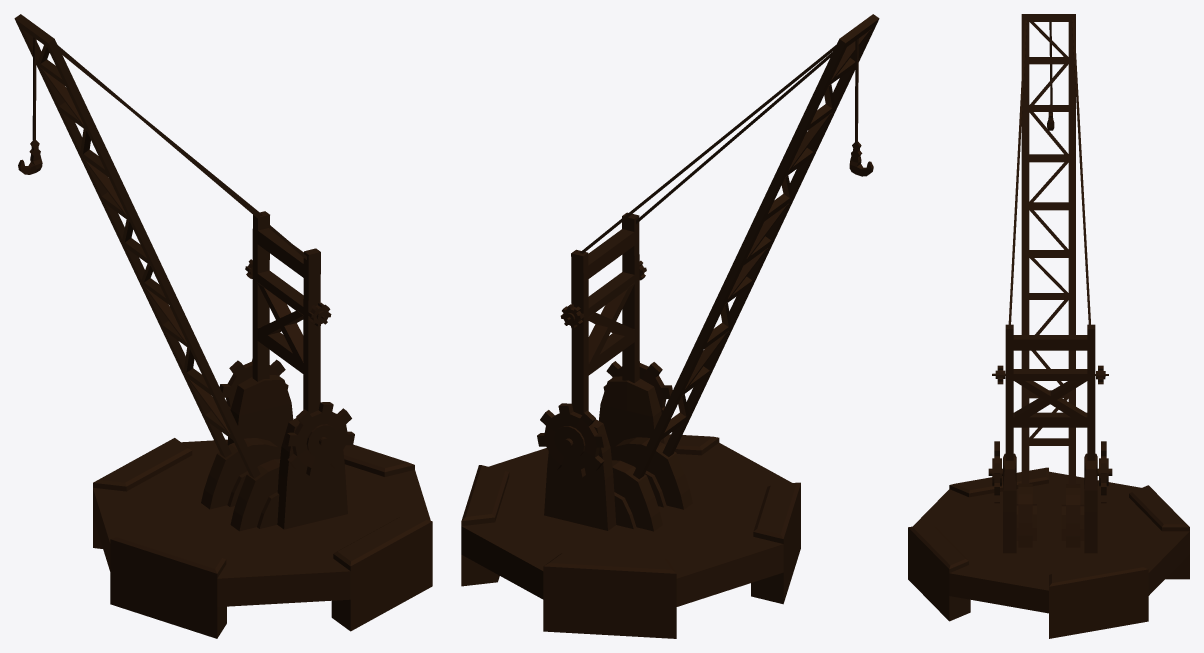
The model's file is Crane.obj.
3 views of the same model, side by side, from view 1: azimuth 30°, elevation 25°; view 2: azimuth 150°, elevation 25°; view 3: azimuth 270°, elevation 25° (orthographic). The views are drawn at different scales.
Parts seen in each view (by area): view 1: base_platform, crane, gears, crane_base, hook; view 2: base_platform, crane, gears, crane_base, hook; view 3: base_platform, crane, gears, crane_base, hook.
Boxes of the visible parts, x1,y1,x2,y2 form: base_platform: (93, 438, 432, 638); crane: (14, 14, 320, 478); gears: (219, 259, 354, 529); crane_base: (201, 438, 280, 531); hook: (18, 37, 306, 259); base_platform: (461, 434, 800, 638); crane: (571, 14, 879, 479); gears: (537, 260, 672, 530); crane_base: (611, 437, 692, 531); hook: (580, 38, 873, 253); base_platform: (908, 467, 1189, 638); crane: (1005, 14, 1095, 484); gears: (988, 365, 1112, 553); crane_base: (1016, 483, 1084, 547); hook: (1008, 20, 1091, 326).
Bounding box in the file's own units: 15.04 × 21.68 × 11.6.
